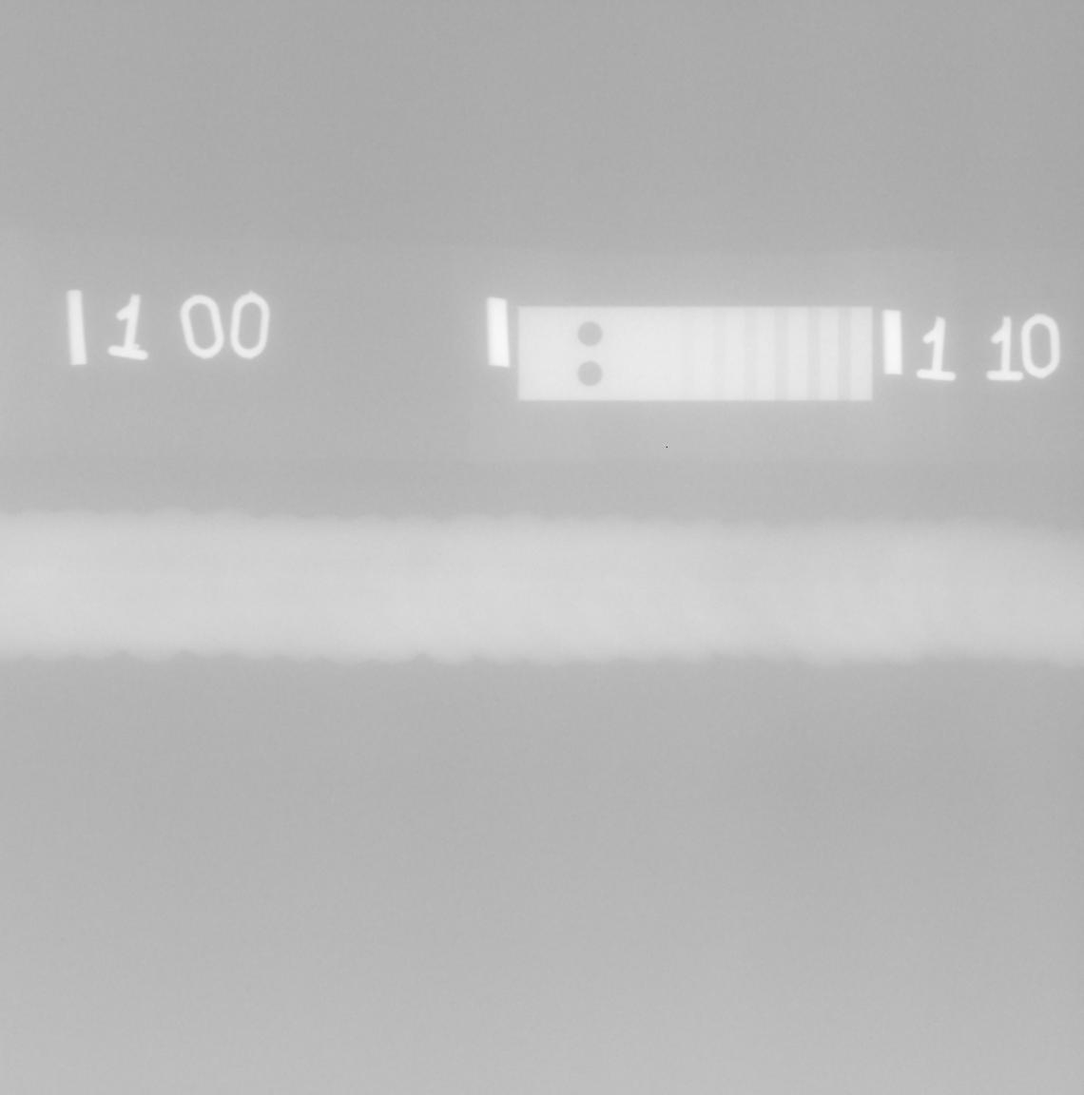Reference Standard 2: (517, 306, 873, 401)
